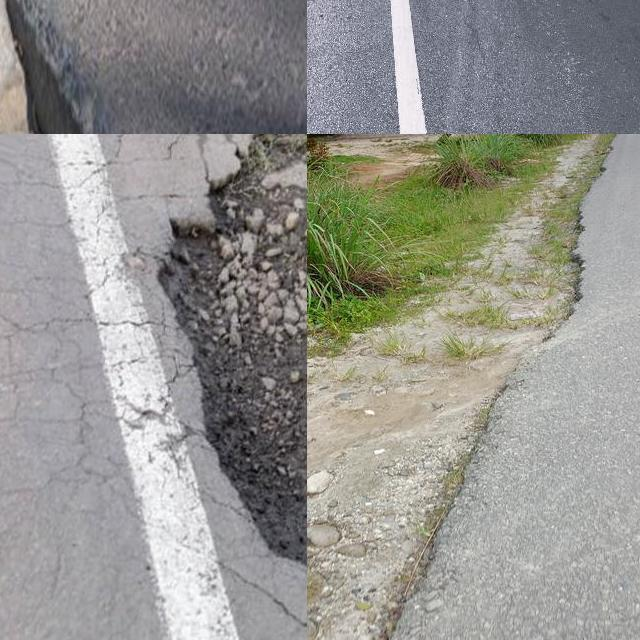Pinggir: (331, 134, 637, 640), (138, 134, 307, 606)
Sambungan: (0, 0, 95, 134)
